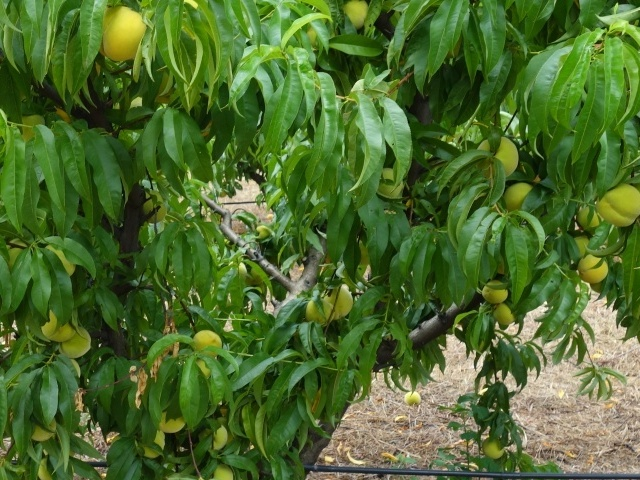peach: (97, 1, 153, 66), (593, 178, 640, 232), (472, 132, 523, 180), (37, 304, 76, 347), (571, 250, 613, 286), (133, 423, 171, 460), (324, 281, 359, 320), (152, 404, 189, 440), (500, 176, 535, 213), (59, 324, 93, 361), (570, 198, 608, 231), (375, 166, 410, 201), (188, 326, 224, 360), (337, 1, 375, 33), (28, 409, 61, 445), (304, 295, 335, 327), (478, 277, 508, 306), (200, 424, 231, 452), (493, 298, 518, 328), (482, 432, 505, 460)
